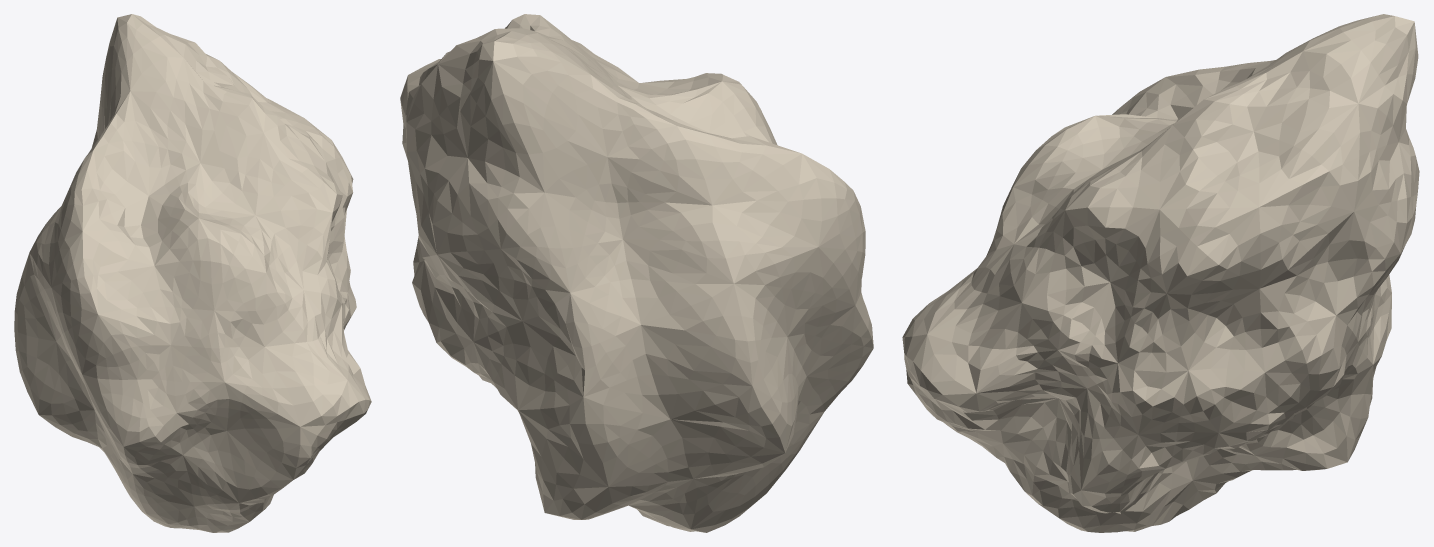
Rendered from Astroid 3.fbx.
3 views of the same model, side by side, from view 1: azimuth 30°, elevation 25°; view 2: azimuth 150°, elevation 25°; view 3: azimuth 270°, elevation 25° (orthographic). The views are drawn at different scales.
Visible parts, largest first — view 1: Astroid__3; view 2: Astroid__3; view 3: Astroid__3.
Boxes of the visible parts, x1,y1,x2,y2 form: Astroid__3: [14, 14, 371, 532]; Astroid__3: [400, 14, 873, 532]; Astroid__3: [902, 14, 1419, 532].
Bounding box in the file's own units: 204 × 270 × 237.
